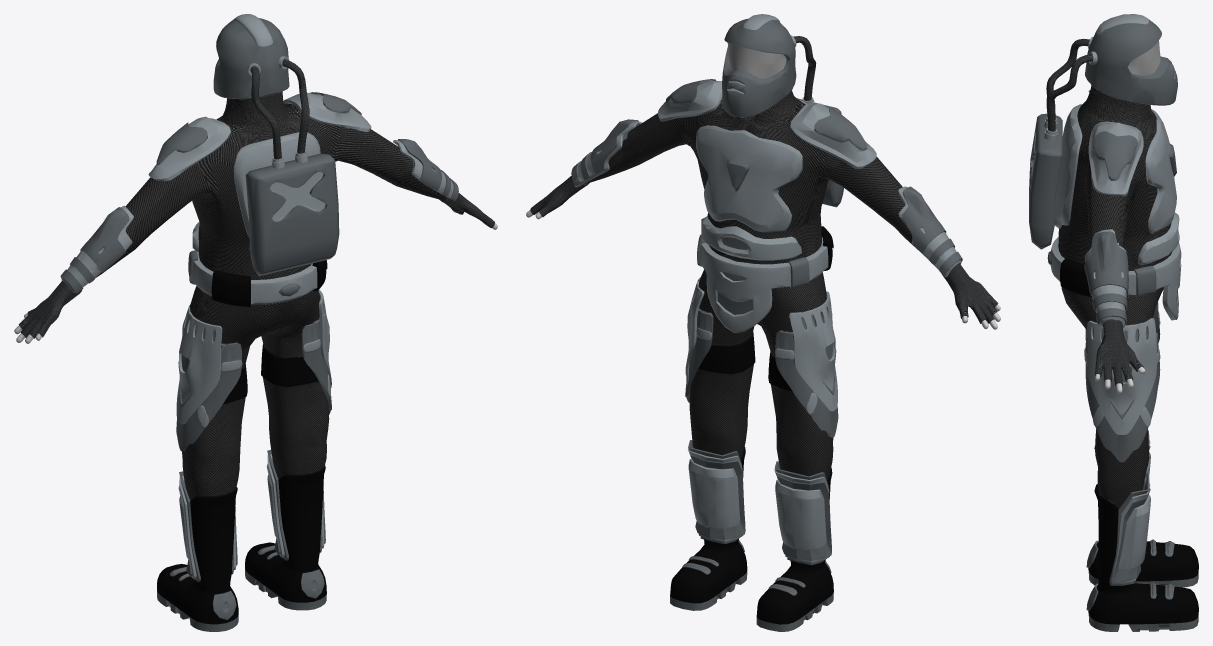
File: personaje.obj
3 views of the same model, side by side, from view 1: azimuth 30°, elevation 25°; view 2: azimuth 150°, elevation 25°; view 3: azimuth 270°, elevation 25° (orthographic).
Parts seen in each view (by area): view 1: personaje3:extrudedSurface2, personaje3:CAMISETABUENA, personaje3:PANTALON, personaje3:bota1, personaje3:pPipe4, personaje3:pCube4, personaje3:cosoarmdaurapierna1, personaje3:cinturon, personaje3:armadbota1, personaje3:cosoarmadurapierna2, personaje3:HOMBRO2; view 2: personaje3:pPipe4, personaje3:CAMISETABUENA, personaje3:PANTALON, personaje3:pCube4, personaje3:bota1, personaje3:extrudedSurface2, personaje3:armadbota1, personaje3:cinturon, personaje3:cosoarmdaurapierna1, personaje3:HOMBRO2, personaje3:cosoarmadurapierna2; view 3: personaje3:pPipe4, personaje3:extrudedSurface2, personaje3:bota1, personaje3:CAMISETABUENA, personaje3:pCube4, personaje3:PANTALON, personaje3:cinturon, personaje3:cosoarmadurapierna2, personaje3:armadbota1, personaje3:hombro1, personaje3:dedos2.
Boxes of the visible parts, x1=… form: personaje3:extrudedSurface2: x1=213, y1=14, x2=339, y2=276; personaje3:CAMISETABUENA: x1=95, y1=91, x2=446, y2=305; personaje3:PANTALON: x1=182, y1=274, x2=329, y2=500; personaje3:bota1: x1=157, y1=466, x2=326, y2=631; personaje3:pPipe4: x1=18, y1=92, x2=494, y2=338; personaje3:pCube4: x1=176, y1=289, x2=331, y2=581; personaje3:cosoarmdaurapierna1: x1=176, y1=305, x2=242, y2=427; personaje3:cinturon: x1=188, y1=250, x2=327, y2=306; personaje3:armadbota1: x1=179, y1=454, x2=324, y2=579; personaje3:cosoarmadurapierna2: x1=301, y1=318, x2=331, y2=414; personaje3:HOMBRO2: x1=156, y1=122, x2=207, y2=165; personaje3:pPipe4: x1=530, y1=81, x2=998, y2=323; personaje3:CAMISETABUENA: x1=583, y1=90, x2=914, y2=288; personaje3:PANTALON: x1=689, y1=251, x2=833, y2=480; personaje3:pCube4: x1=685, y1=277, x2=838, y2=565; personaje3:bota1: x1=670, y1=447, x2=833, y2=631; personaje3:extrudedSurface2: x1=722, y1=14, x2=843, y2=207; personaje3:armadbota1: x1=688, y1=447, x2=829, y2=562; personaje3:cinturon: x1=697, y1=226, x2=833, y2=333; personaje3:cosoarmdaurapierna1: x1=775, y1=291, x2=837, y2=414; personaje3:HOMBRO2: x1=814, y1=107, x2=867, y2=150; personaje3:cosoarmadurapierna2: x1=685, y1=308, x2=713, y2=402; personaje3:pPipe4: x1=1054, y1=90, x2=1179, y2=385; personaje3:extrudedSurface2: x1=1029, y1=14, x2=1177, y2=249; personaje3:bota1: x1=1086, y1=445, x2=1198, y2=631; personaje3:CAMISETABUENA: x1=1058, y1=85, x2=1172, y2=297; personaje3:pCube4: x1=1084, y1=302, x2=1160, y2=585; personaje3:PANTALON: x1=1061, y1=258, x2=1167, y2=508; personaje3:cinturon: x1=1047, y1=237, x2=1181, y2=320; personaje3:cosoarmadurapierna2: x1=1085, y1=327, x2=1160, y2=462; personaje3:armadbota1: x1=1111, y1=440, x2=1150, y2=584; personaje3:hombro1: x1=1094, y1=131, x2=1137, y2=180; personaje3:dedos2: x1=1095, y1=366, x2=1145, y2=393.
Bounding box in the file's own units: 8.31 × 9.75 × 2.57.
